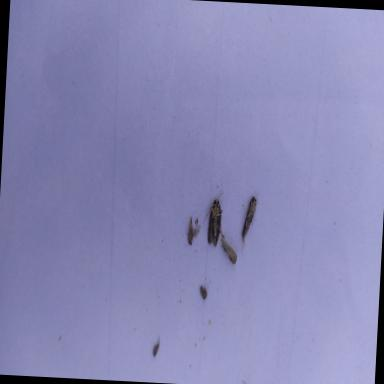pbw: (200, 189, 225, 248), (240, 195, 258, 253), (219, 234, 238, 264), (186, 214, 198, 246)
